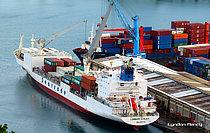Ship: (11, 24, 166, 133)
